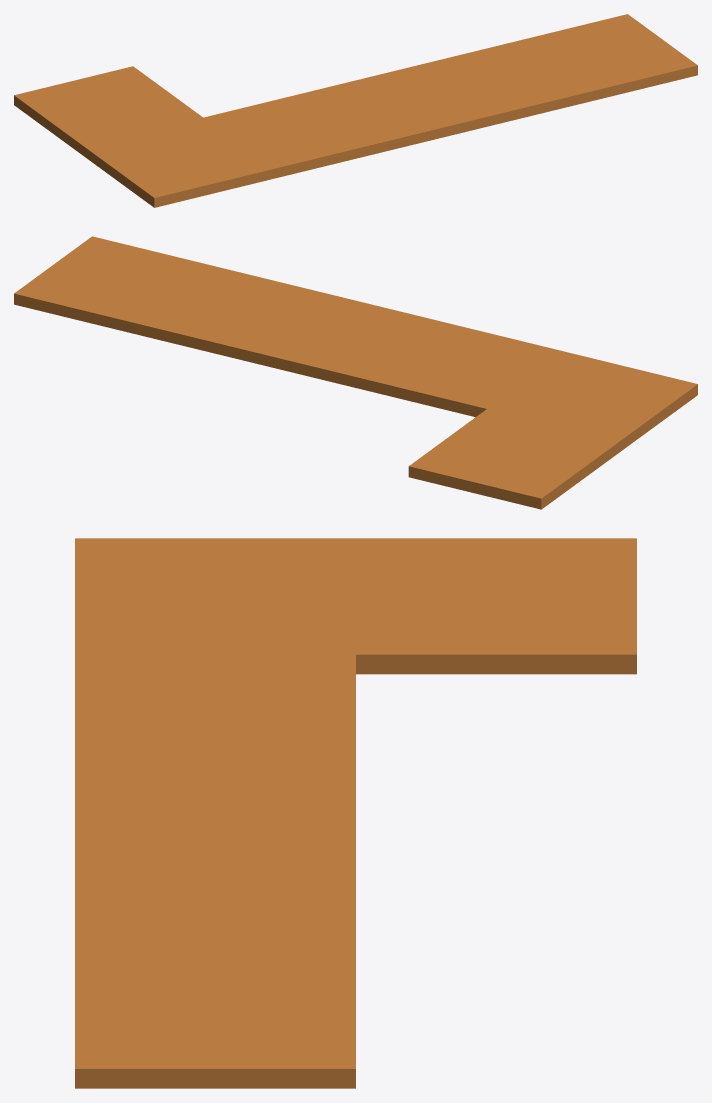
File: Scaffold_Working_Platform_Wood_03.FBX
3 renders of one model, top to bottom at view 1: azimuth 30°, elevation 25°; view 2: azimuth 150°, elevation 25°; view 3: azimuth 270°, elevation 25°, orthographic. The views are drawn at different scales.
Visible parts, largest first — view 1: Scaffold_Working_Platform_Wood_03; view 2: Scaffold_Working_Platform_Wood_03; view 3: Scaffold_Working_Platform_Wood_03.
Part boxes in pixels (x1,y1,x2,y2): Scaffold_Working_Platform_Wood_03: [14, 14, 697, 207]; Scaffold_Working_Platform_Wood_03: [14, 236, 697, 509]; Scaffold_Working_Platform_Wood_03: [75, 538, 636, 1088].
Bounding box in the file's own units: 7260 × 126 × 3249.
